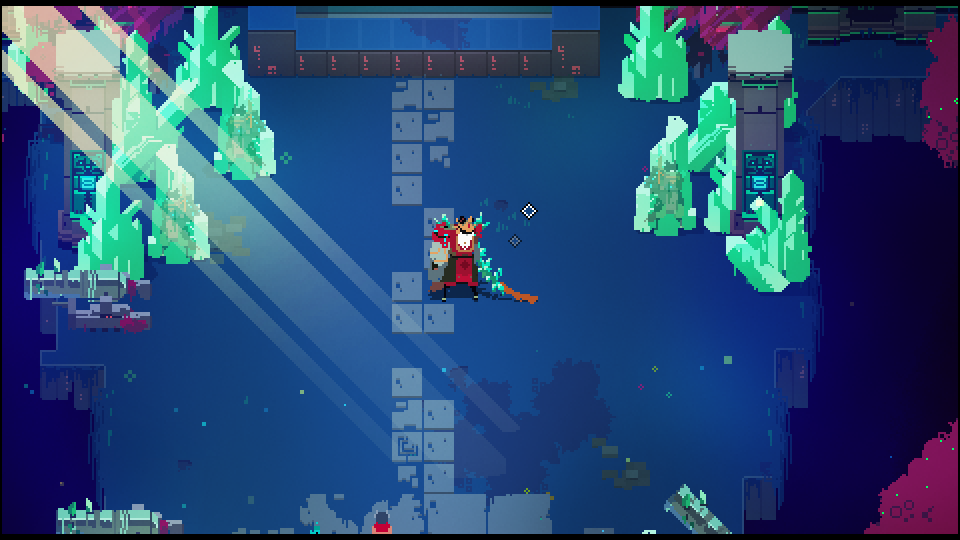hanged_man: (429, 213, 503, 303)
